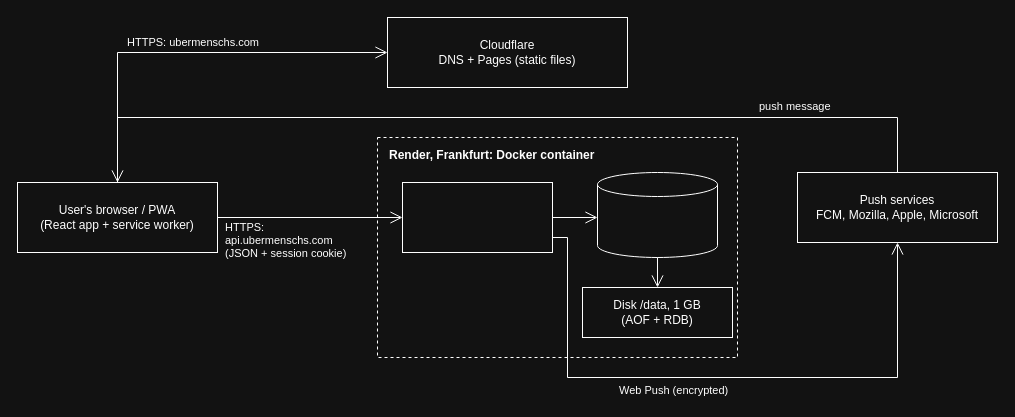
The diagram is 1015 pixels wide and 417 high, and some of its shapes have lost their labels. The centre of each missing label's shape, as x and y in pixels:
C++ server (Crow, scheduler): the point at 477,217
Redis 7 127.0.0.1:6379: the point at 657,215
